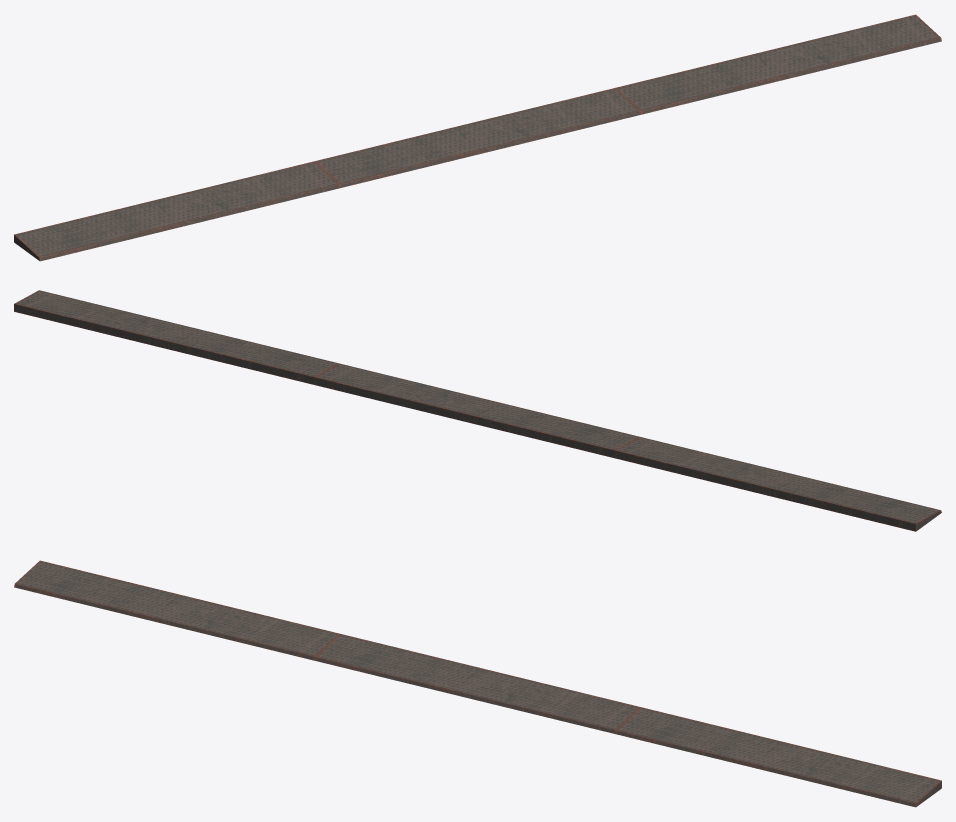
The model's file is stepplateA.fbx.
3 renders of one model, top to bottom at view 1: azimuth 30°, elevation 25°; view 2: azimuth 150°, elevation 25°; view 3: azimuth 330°, elevation 25°, orthographic.
Parts seen in each view (by area): view 1: stepplateA; view 2: stepplateA; view 3: stepplateA.
Boxes of the visible parts, box(x1,y1,x2,y2) form: stepplateA: box(14, 14, 941, 261); stepplateA: box(14, 290, 941, 531); stepplateA: box(14, 560, 941, 807).
Bounding box in the file's own units: 600 × 5 × 30.
Materials: 1 (1 with a texture image).
